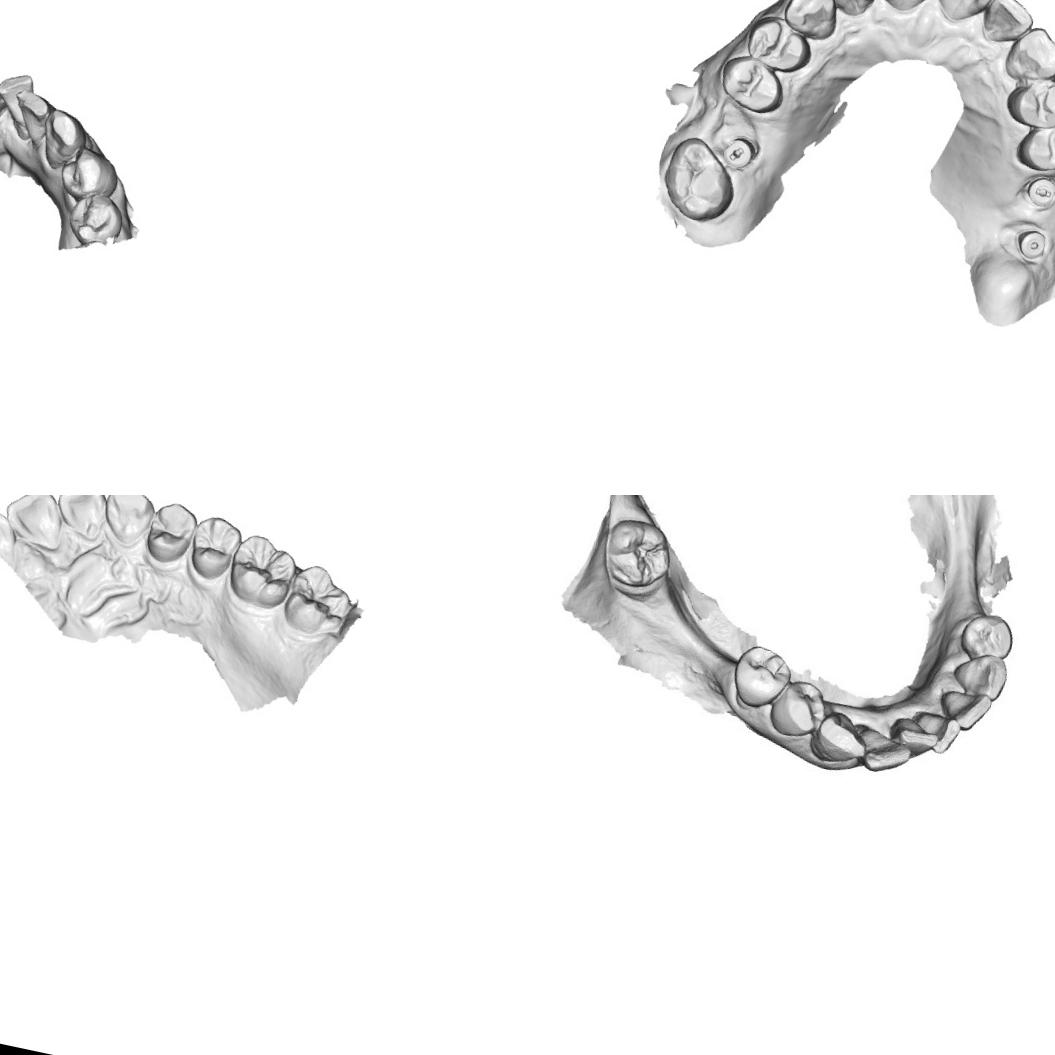canine: (1000, 20, 1055, 89), (0, 495, 70, 549), (35, 106, 91, 172), (97, 495, 158, 546), (812, 707, 864, 764), (779, 0, 843, 44), (50, 495, 113, 539), (956, 648, 1009, 700)
implant: (1011, 224, 1050, 264)
implant_minus: (718, 132, 762, 174), (1022, 170, 1055, 209)
incisor: (854, 722, 918, 780), (6, 86, 56, 151), (979, 0, 1039, 49), (0, 68, 40, 141), (940, 688, 993, 732), (914, 712, 965, 757), (928, 0, 1000, 29), (898, 720, 940, 756), (870, 0, 942, 19), (822, 0, 884, 20)
molar: (655, 132, 745, 229), (222, 530, 302, 615), (280, 559, 358, 642), (602, 515, 674, 595)
premolar: (714, 49, 792, 118), (740, 10, 819, 78), (184, 511, 246, 585), (54, 142, 123, 207), (143, 497, 202, 569), (730, 640, 792, 708), (63, 188, 128, 252), (766, 683, 826, 744), (1001, 70, 1055, 136), (962, 608, 1019, 665), (1012, 114, 1055, 179)
